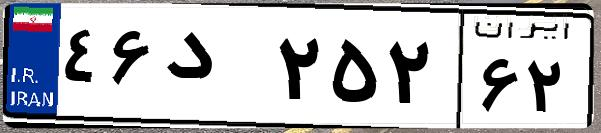2: (270, 28, 330, 110), (385, 28, 445, 110), (525, 38, 570, 115)
4: (57, 26, 110, 100)
5: (330, 28, 385, 110)
6: (475, 38, 525, 113), (110, 28, 158, 98)
د: (158, 20, 270, 120)
